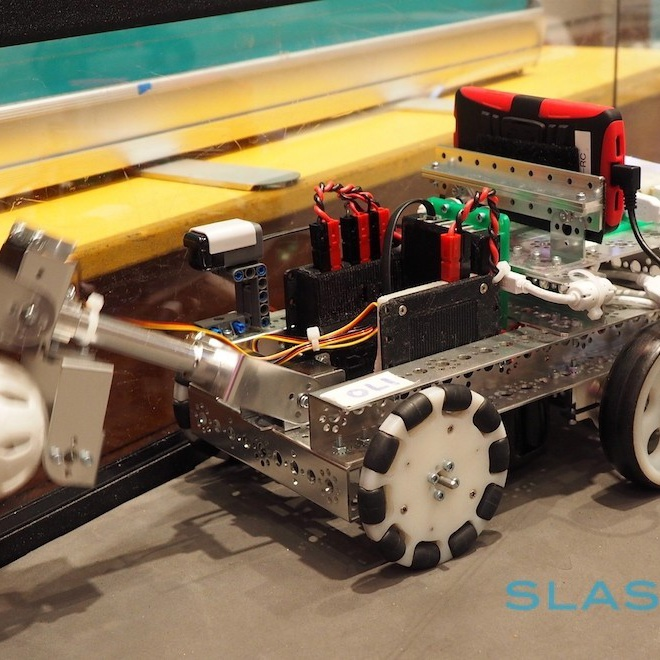robot: (4, 83, 660, 576)
